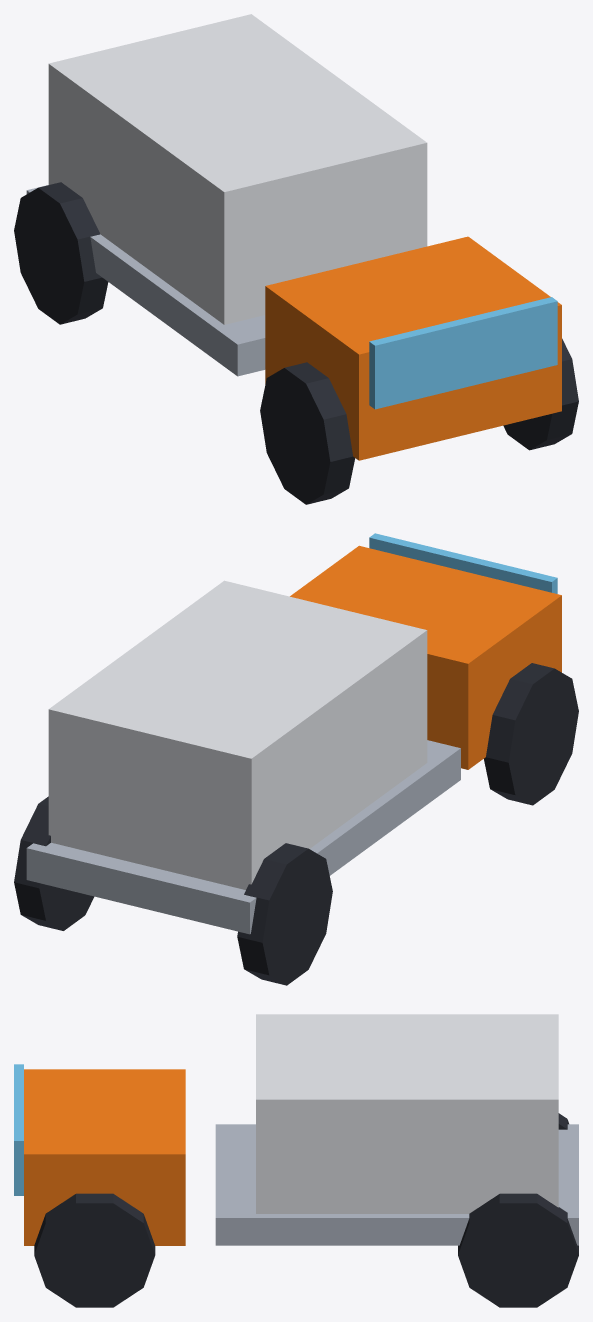
Rendered from lunar-cargo-hauler.glb.
3 views of the same model, one above another, from view 1: azimuth 30°, elevation 25°; view 2: azimuth 150°, elevation 25°; view 3: azimuth 270°, elevation 25° (orthographic). The views are drawn at different scales.
Visible parts, largest first — view 1: cargo_hauler; view 2: cargo_hauler; view 3: cargo_hauler.
Part boxes in pixels (bbox=[...]): cargo_hauler: bbox=[14, 14, 578, 504]; cargo_hauler: bbox=[14, 533, 578, 985]; cargo_hauler: bbox=[14, 1014, 578, 1307].
Size of the model in its own units: 2.45 by 2.17 by 5.6.
